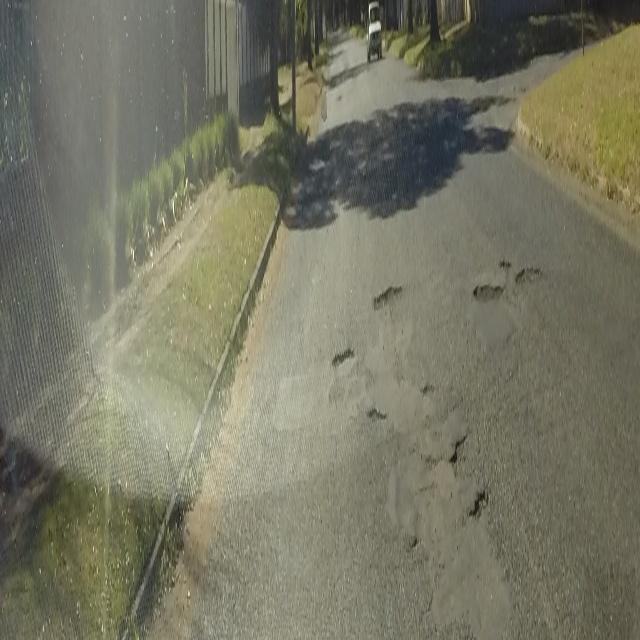pothole: (446, 435, 495, 526), (471, 256, 544, 306), (372, 274, 404, 314), (367, 401, 388, 428), (331, 348, 356, 366)
